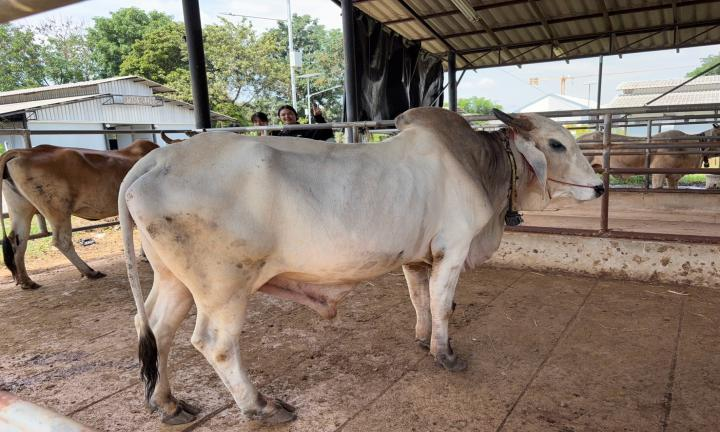Brahman: (118, 107, 603, 423)
